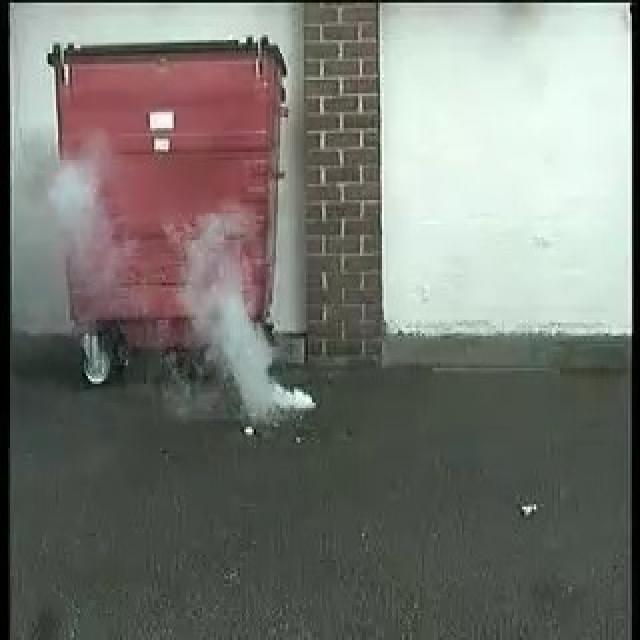smoke: (173, 205, 312, 410), (52, 167, 96, 219)
